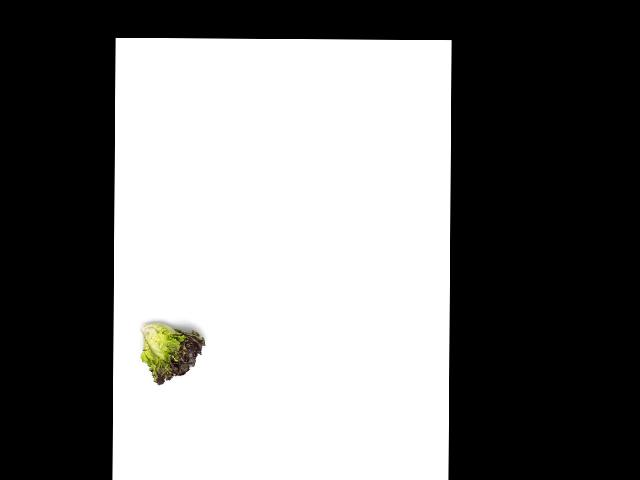lettuce: (137, 322, 209, 384)
